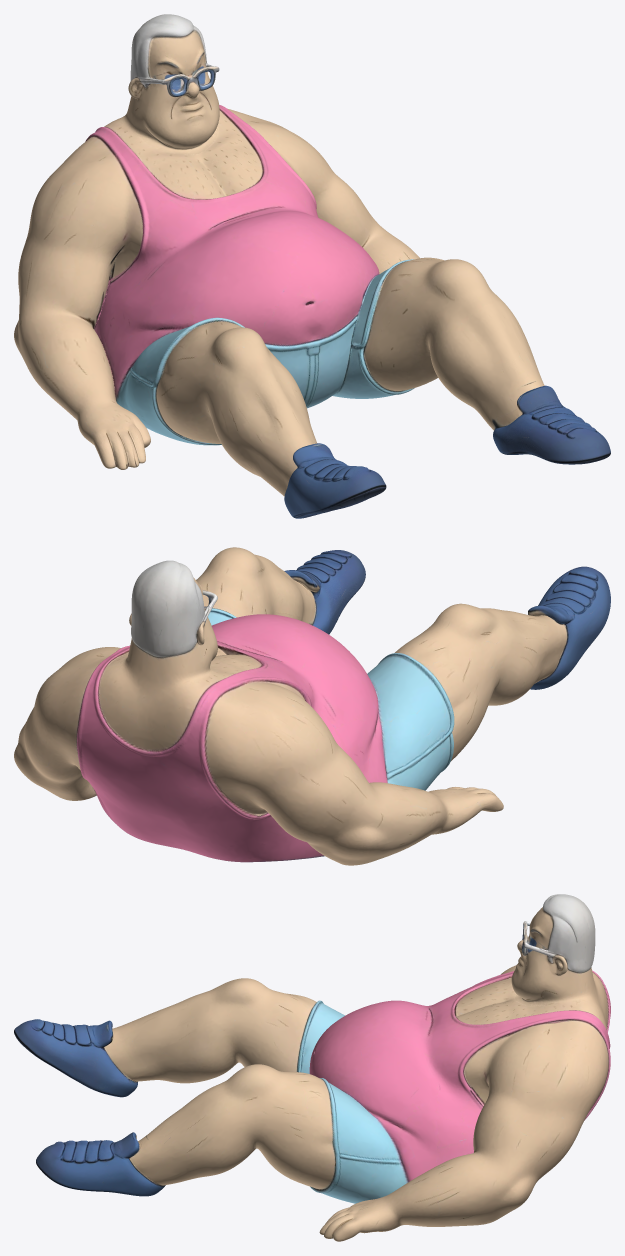
The model's file is BigLez.glb.
3 views of the same model, one above another, from view 1: azimuth 30°, elevation 25°; view 2: azimuth 150°, elevation 25°; view 3: azimuth 270°, elevation 25° (orthographic). The views are drawn at different scales.
Parts seen in each view (by area): view 1: BigLez_Mesh; view 2: BigLez_Mesh; view 3: BigLez_Mesh.
Part boxes in pixels (bbox=[...]): BigLez_Mesh: bbox=[14, 14, 610, 518]; BigLez_Mesh: bbox=[14, 547, 610, 865]; BigLez_Mesh: bbox=[14, 894, 610, 1241].
Bounding box in the file's own units: 0.6859 × 0.4898 × 1.01.
Materials: 1 (1 with a texture image).
